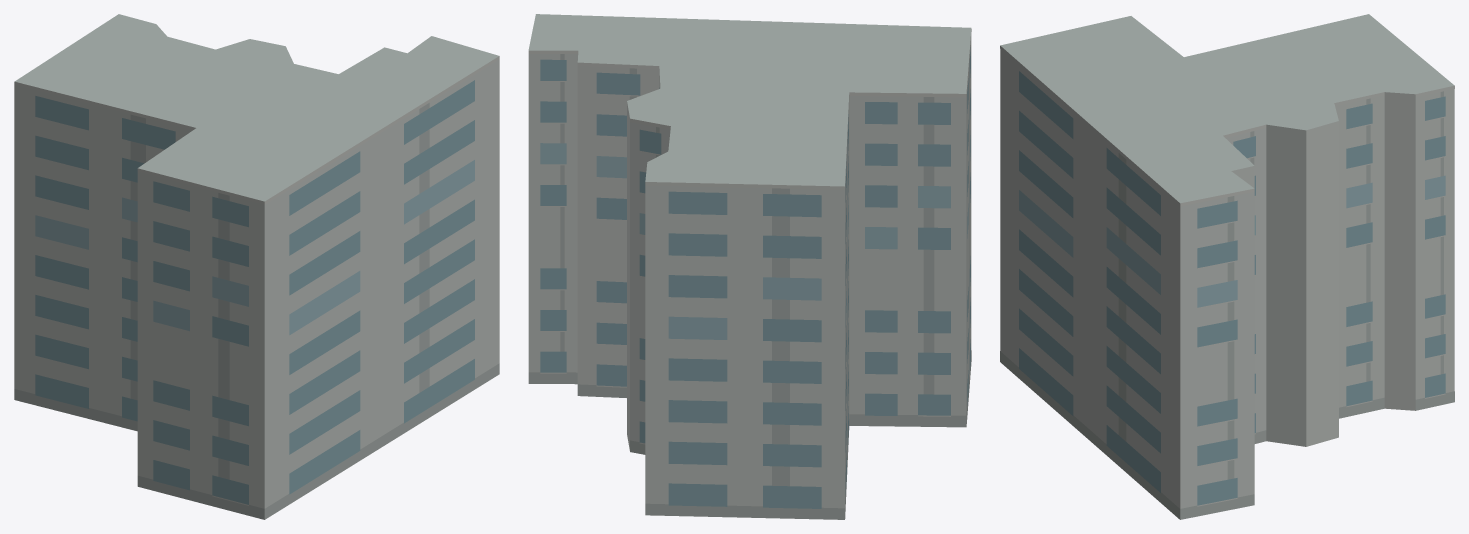
File: survey-upis-32639720.glb
The picture shows the model from 3 angles, left to right: view 1: azimuth 30°, elevation 25°; view 2: azimuth 150°, elevation 25°; view 3: azimuth 270°, elevation 25°; orthographic projection. The views are drawn at different scales.
Parts seen in each view (by area): view 1: survey-upis-32639720.tmp; view 2: survey-upis-32639720.tmp; view 3: survey-upis-32639720.tmp.
Boxes of the visible parts, x1,y1,x2,y2 form: survey-upis-32639720.tmp: [14, 14, 499, 519]; survey-upis-32639720.tmp: [528, 14, 971, 519]; survey-upis-32639720.tmp: [1000, 14, 1454, 519].
Bounding box in the file's own units: 29.95 × 23.35 × 30.4.
